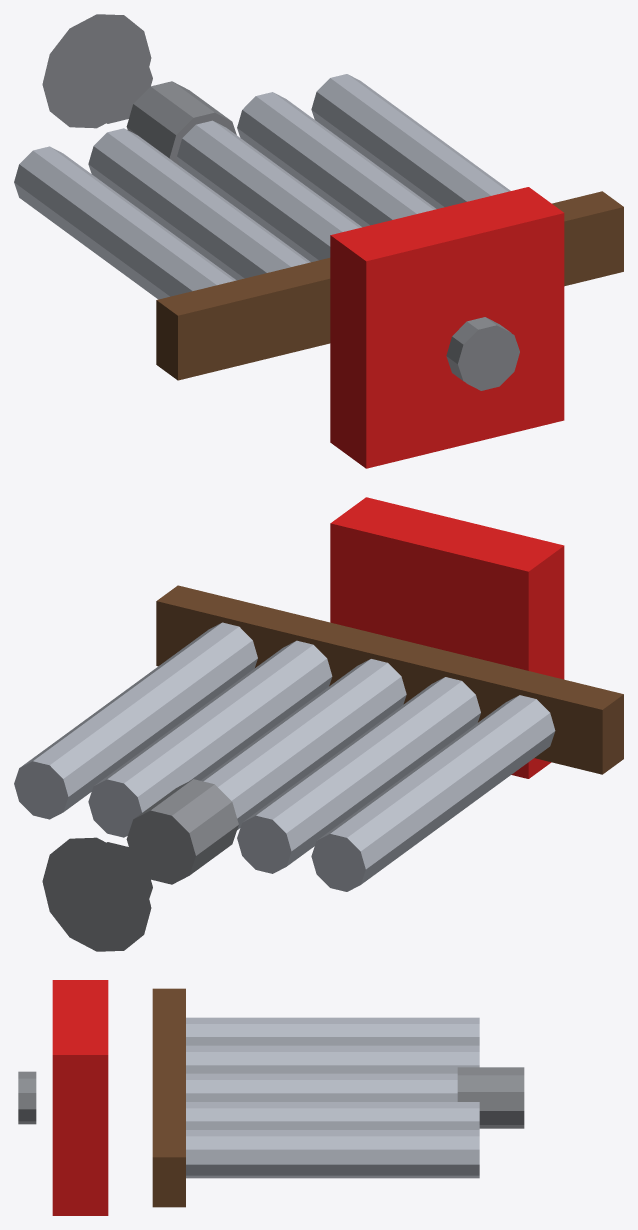
Rendered from SM_WindChime_Red.obj.
The picture shows the model from 3 angles, top to bottom: view 1: azimuth 30°, elevation 25°; view 2: azimuth 150°, elevation 25°; view 3: azimuth 270°, elevation 25°; orthographic projection. The views are drawn at different scales.
Parts seen in each view (by area): view 1: mesh; view 2: mesh; view 3: mesh.
Part boxes in pixels (<box>): mesh: <box>14,14,623,468</box>; mesh: <box>14,497,623,951</box>; mesh: <box>18,980,524,1215</box>.
Bounding box in the file's own units: 18 × 8 × 27.5.
